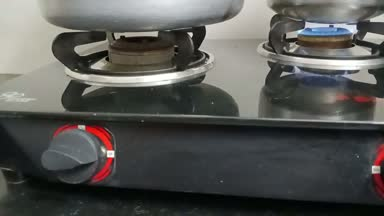flame_gas_off: (42, 23, 174, 189)
flame_gas_on: (275, 15, 380, 62)
